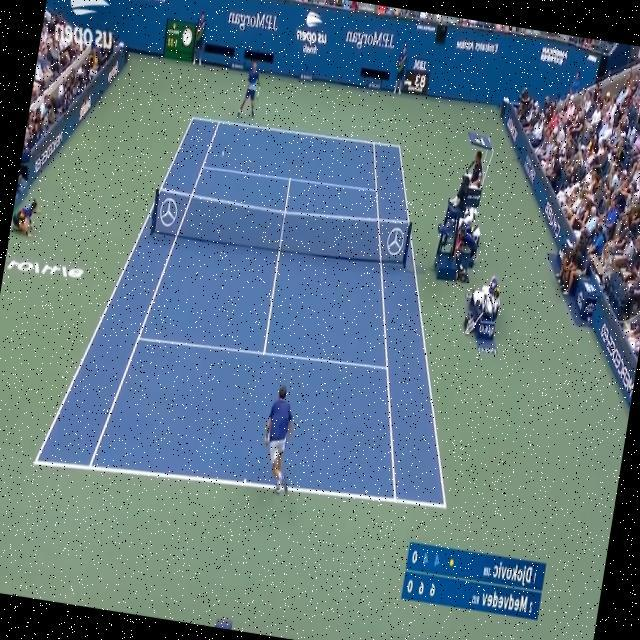Emirates: (474, 40, 499, 56), (140, 0, 166, 4)
